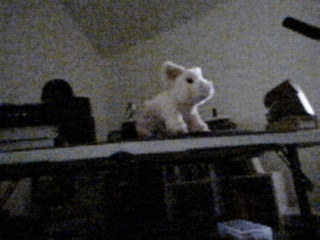piggy: (135, 59, 217, 137)
